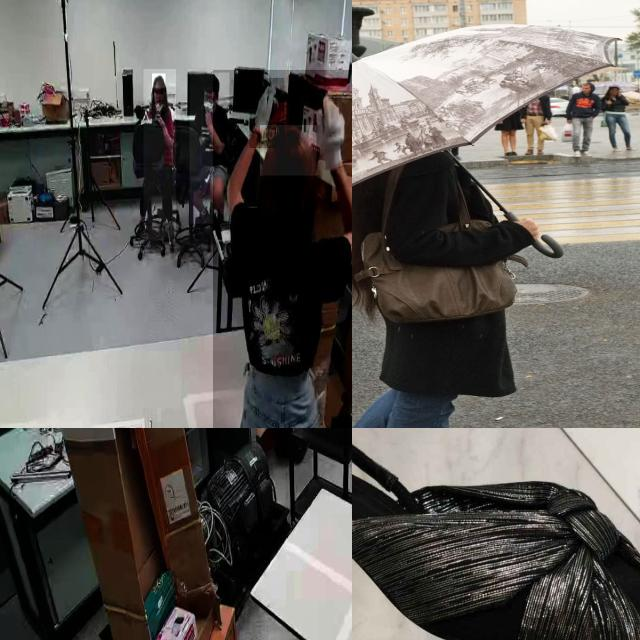Sandals: (352, 428, 640, 640)
face_nomask: (153, 90, 164, 106)
hand_glove: (313, 91, 352, 187), (250, 78, 284, 148)
hand_noglove: (156, 110, 166, 128), (204, 106, 212, 126)
head_nohelmet: (260, 125, 317, 177), (204, 72, 219, 88), (152, 74, 166, 88)
person: (213, 70, 352, 428), (190, 72, 230, 224), (144, 69, 176, 241)
